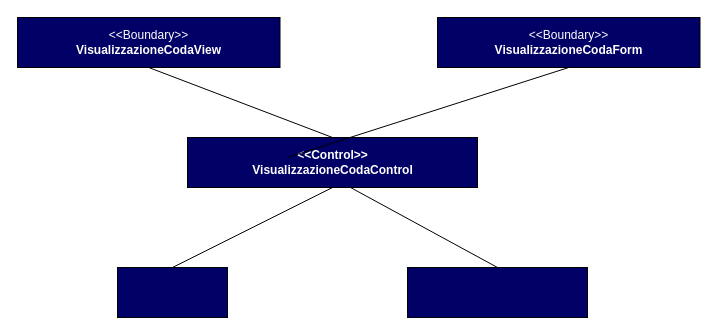
Some shapes in this 718 by 335 pixel diagram are drawn without their labels. Each missing label, with the centre of its shape:
<<Entity>> CodaRepository: point 497,292
<<Entity>> Utente Autenticato: point 172,292
